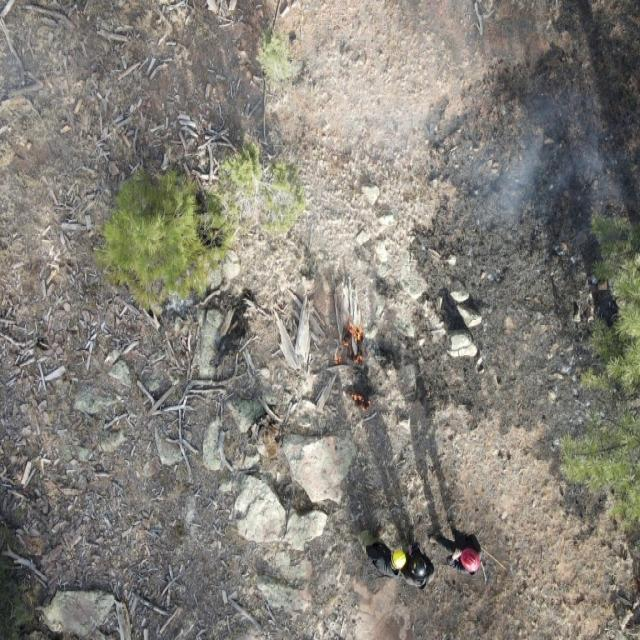fire: (334, 322, 368, 368), (351, 392, 374, 418)
smoke: (353, 61, 640, 231), (0, 1, 107, 244), (249, 208, 436, 338)
